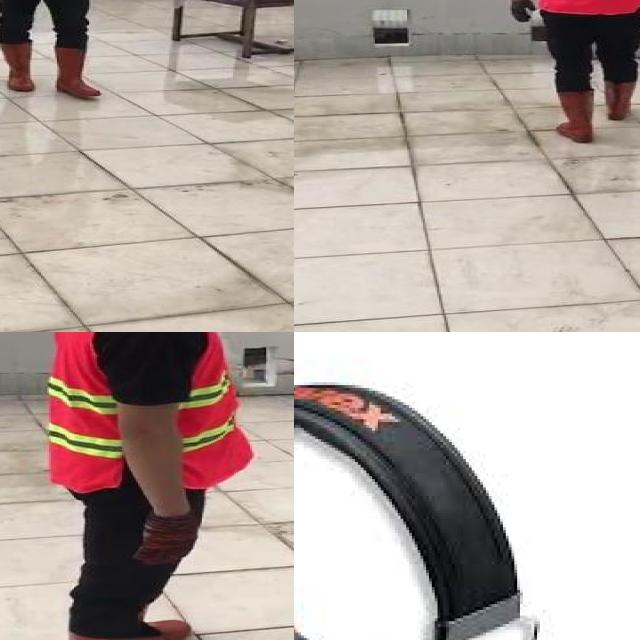boots: (56, 44, 101, 98), (555, 90, 597, 141), (0, 41, 37, 94), (604, 80, 638, 121)
hand_glove: (129, 514, 199, 565), (508, 0, 538, 23)
person: (27, 332, 276, 640), (504, 0, 640, 145), (0, 0, 113, 103)
vest: (49, 332, 251, 491)
